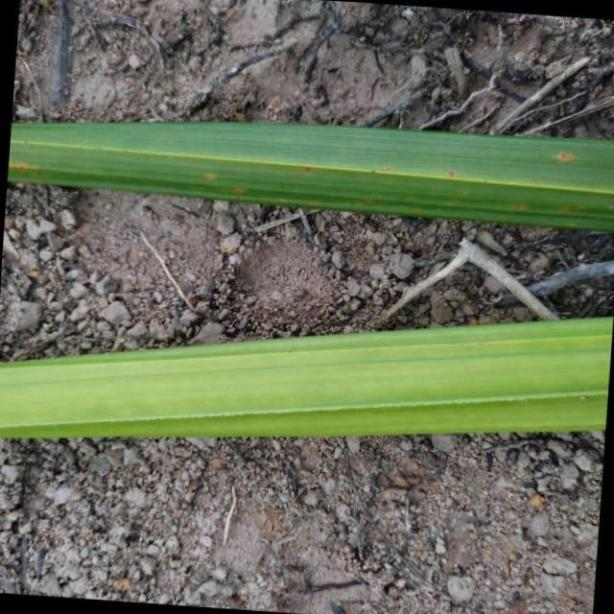nitrogen: (9, 110, 614, 236), (0, 318, 614, 438)
